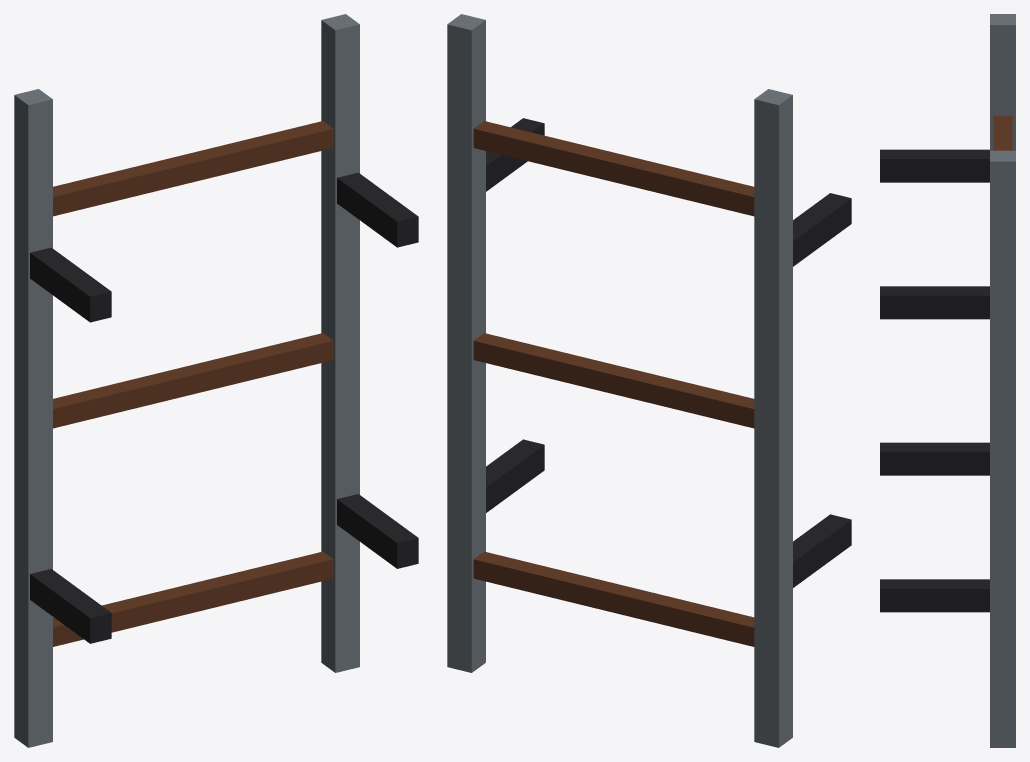
Rendered from roof_ladder_seg.glb.
The picture shows the model from 3 angles, left to right: view 1: azimuth 30°, elevation 25°; view 2: azimuth 150°, elevation 25°; view 3: azimuth 270°, elevation 25°; orthographic projection. The views are drawn at different scales.
Parts seen in each view (by area): view 1: roof_ladder_seg; view 2: roof_ladder_seg; view 3: roof_ladder_seg.
Boxes of the visible parts, x1,y1,x2,y2 form: roof_ladder_seg: [14, 14, 418, 747]; roof_ladder_seg: [447, 14, 851, 747]; roof_ladder_seg: [880, 14, 1015, 747].
Bounding box in the file's own units: 0.54 × 1 × 0.21.
2 materials, 2 textured.
